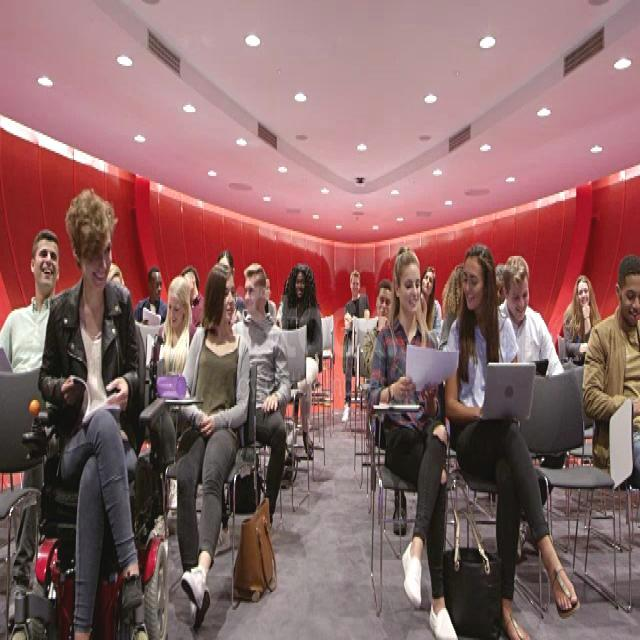Looking away: (398, 252, 423, 317), (617, 266, 640, 332), (462, 252, 486, 313), (508, 277, 530, 323), (243, 270, 264, 318), (218, 274, 236, 328), (166, 287, 186, 333), (422, 260, 438, 301)
Looking forward: (83, 230, 111, 292), (32, 236, 60, 294), (576, 274, 592, 312), (376, 284, 392, 322), (295, 264, 307, 304), (351, 266, 361, 298)
